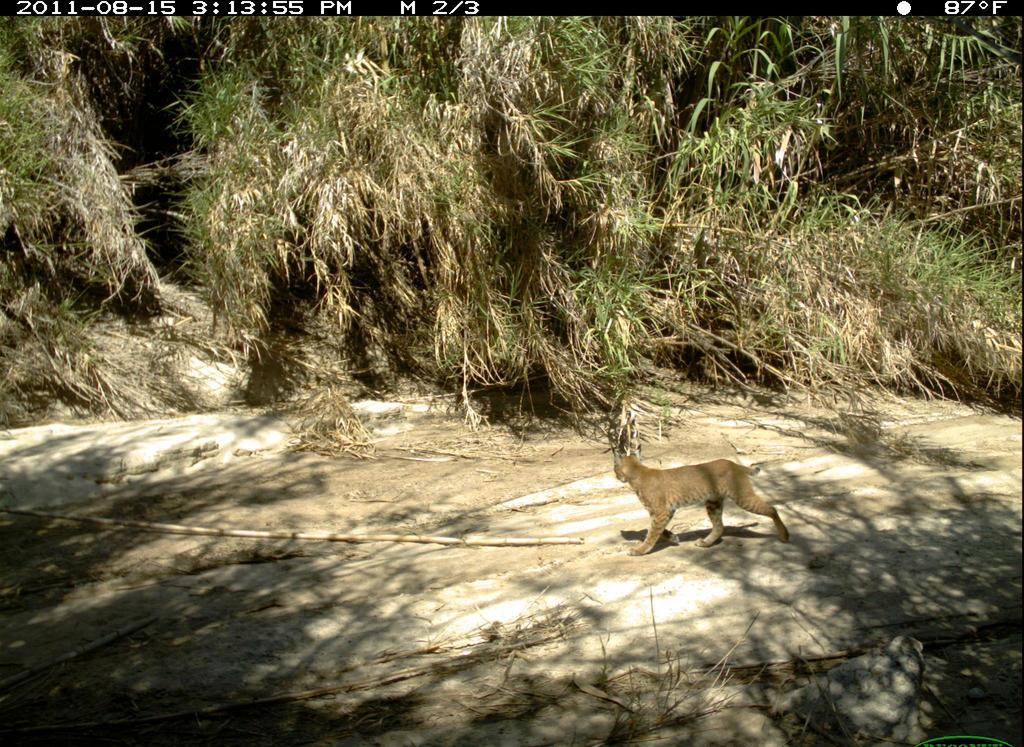bobcat: (605, 440, 801, 564)
